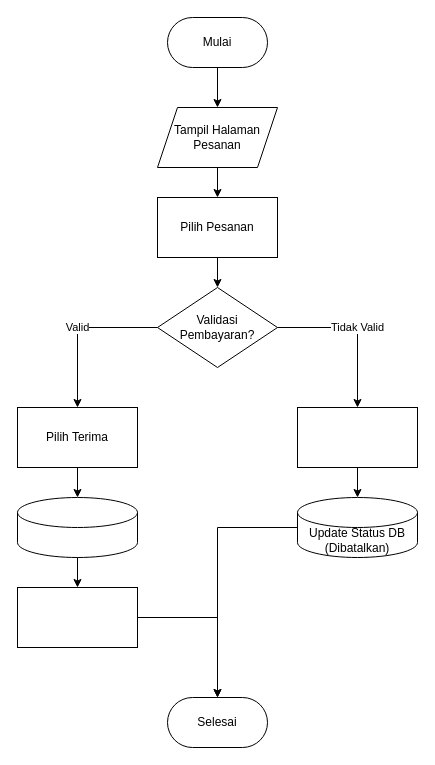
This 435x765 diagram has some shape labels left out. The centre of each missing label's shape, as x and y in pixels:
"Kirim Barang" belongs at point 77,617.
"Pilih Tolak" belongs at point 357,437.
"Update Status DB (Diproses)" belongs at point 77,527.
